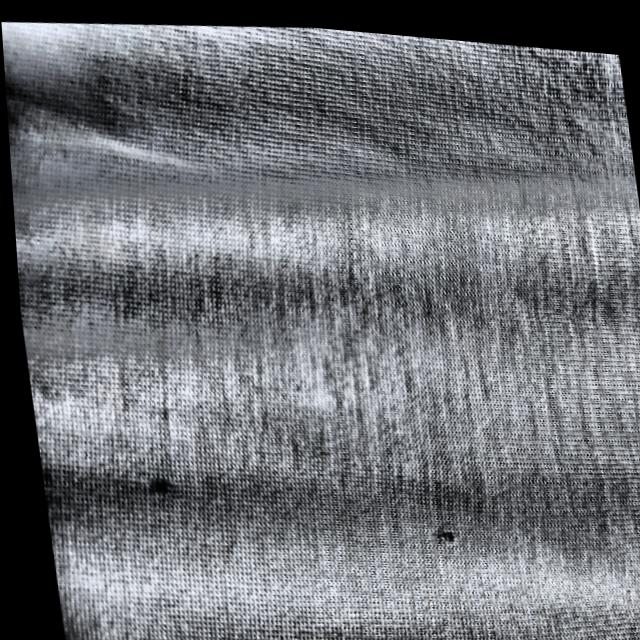Hole: (412, 503, 459, 547), (134, 464, 177, 511)
